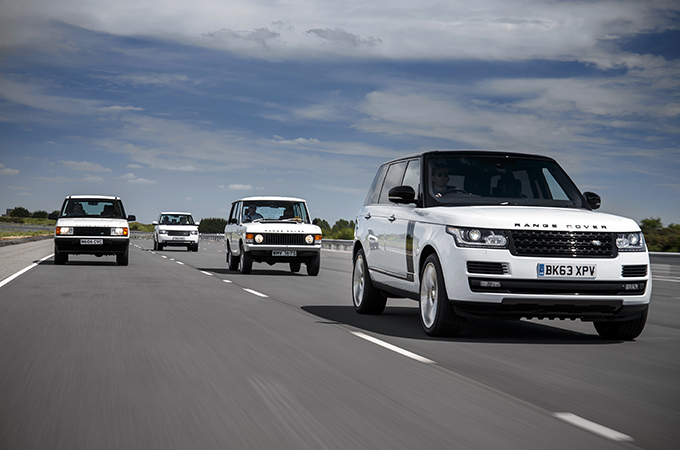Carro: (348, 149, 655, 351), (225, 197, 324, 277), (53, 191, 134, 270), (152, 210, 200, 250)
